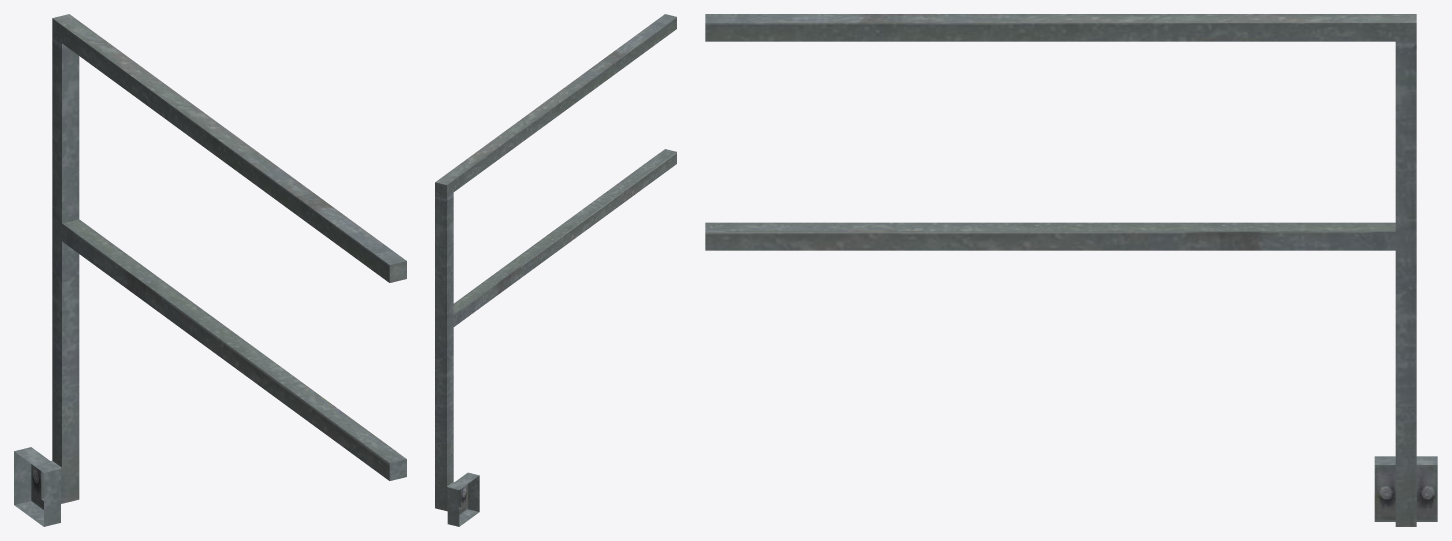
File: eSK_fence01_side_fence.FBX
3 views of the same model, side by side, from view 1: azimuth 30°, elevation 25°; view 2: azimuth 150°, elevation 25°; view 3: azimuth 270°, elevation 25° (orthographic). The views are drawn at different scales.
Visible parts, largest first — view 1: Object1; view 2: Object1; view 3: Object1.
Boxes of the visible parts, x1,y1,x2,y2 form: Object1: [14, 14, 406, 526]; Object1: [435, 14, 676, 526]; Object1: [705, 14, 1437, 526].
Bounding box in the file's own units: 0.132 × 1.35 × 1.75.
Materials: 1 (1 with a texture image).
